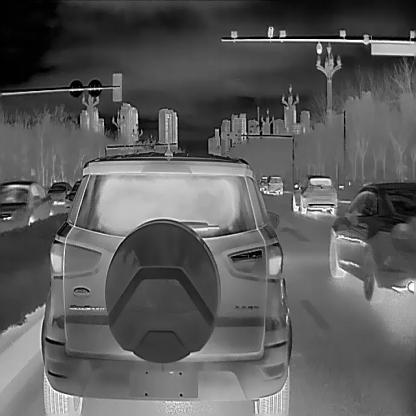car: (41, 152, 293, 415), (328, 181, 416, 302), (1, 180, 53, 231), (291, 173, 337, 215), (46, 181, 72, 205), (266, 175, 283, 195), (257, 173, 268, 193)
